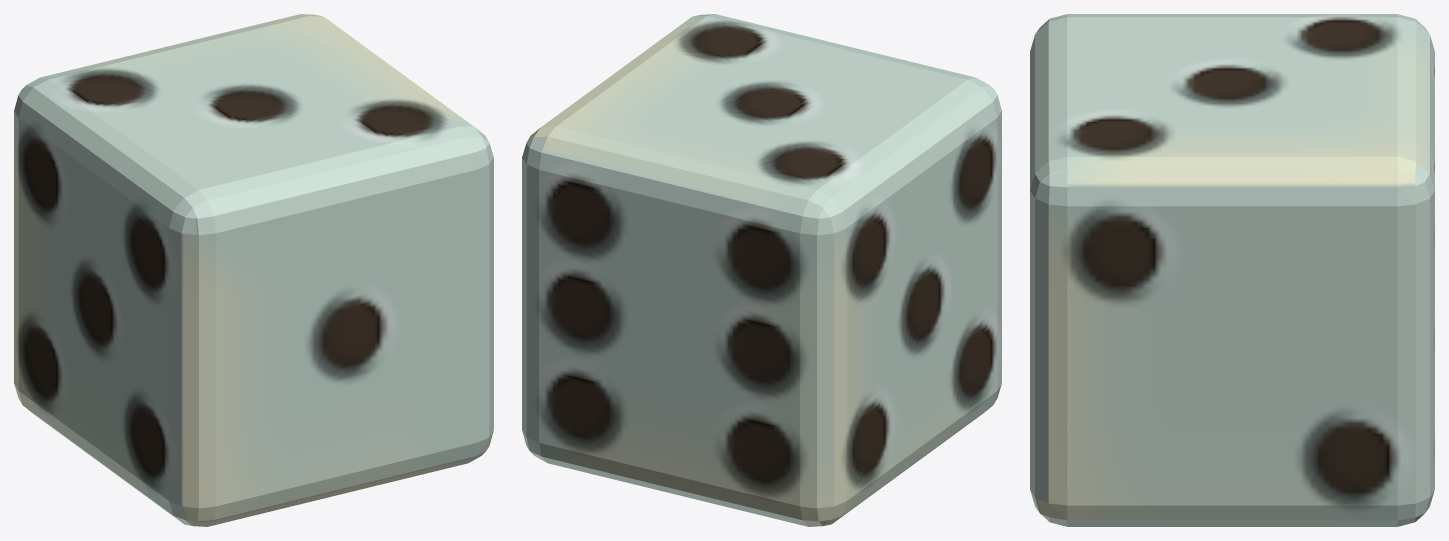
Rendered from die.dae.
The picture shows the model from 3 angles, left to right: view 1: azimuth 30°, elevation 25°; view 2: azimuth 150°, elevation 25°; view 3: azimuth 270°, elevation 25°; orthographic projection. The views are drawn at different scales.
Parts seen in each view (by area): view 1: Cube; view 2: Cube; view 3: Cube.
Boxes of the visible parts, x1=… form: Cube: x1=14, y1=14, x2=493, y2=526; Cube: x1=522, y1=14, x2=1001, y2=526; Cube: x1=1030, y1=14, x2=1434, y2=526.
Size of the model in its own units: 2 by 2 by 2.
1 material, 1 textured.
